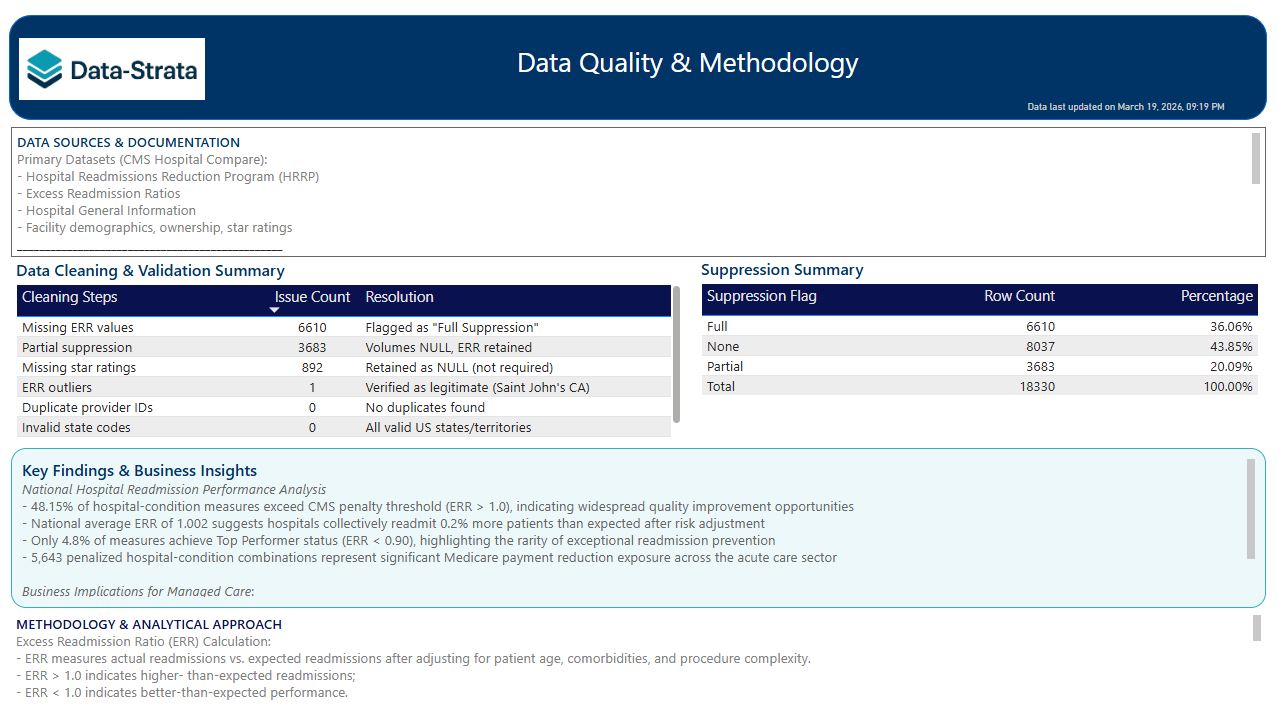

Layout of this report page (visuals, bound fields, positions):
{"tool":"powerbi","page":{"name":"Data Quality & Methodology","canvas":[1280,720],"ordinal":4},"visuals":[{"type":"group","id":"g1","title":"Group 2","box":[11,0,1258.3,141.8],"z":0},{"type":"group","id":"g2","title":"Group 1","box":[11,0,1258.3,141.8],"z":0,"group":"g1"},{"type":"shape","box":[11,17.1,1258.3,105.2],"z":0,"group":"g2"},{"type":"textbox","box":[360.8,40.2,656.9,57.8],"z":1000},{"type":"textbox","box":[20.9,450.9,1247.3,160.9],"z":1001},{"type":"textbox","box":[13.6,129.1,1255.5,130],"z":1002},{"type":"tableEx","title":"Data Cleaning & Validation Summary","fields":{"Values":["CleaningLog.Cleaning Steps","CleaningLog.Issue Count","CleaningLog.Resolution"]},"box":[12.7,263.6,675.5,187.3],"z":1003},{"type":"tableEx","title":"Suppression Summary","fields":{"Values":["SuppressionSummary.Suppression Flag","SuppressionSummary.Row Count","SuppressionSummary.Percentage"]},"box":[698.2,263.6,570,187.3],"z":1004},{"type":"textbox","box":[21,612,1247,101],"z":1005},{"type":"image","box":[20.8,0,185.9,141.8],"z":7000,"group":"g2"},{"type":"card","fields":{"Values":["_Measures.Last Refresh"]},"box":[996.7,99.4,262.4,22.4],"z":15000,"group":"g1"}]}

Visuals, with their boxes in screenshot pixels (x1, y1, x2, y2), scaled from the page's 1280x720 canvas onto the 1278x713 screenshot:
"Group 2" group: (x1=11, y1=0, x2=1267, y2=140)
"Group 1" group: (x1=11, y1=0, x2=1267, y2=140)
shape: (x1=11, y1=17, x2=1267, y2=121)
textbox: (x1=360, y1=40, x2=1016, y2=97)
textbox: (x1=21, y1=447, x2=1266, y2=606)
textbox: (x1=14, y1=128, x2=1267, y2=257)
"Data Cleaning & Validation Summary" tableEx: (x1=13, y1=261, x2=687, y2=447)
"Suppression Summary" tableEx: (x1=697, y1=261, x2=1266, y2=447)
textbox: (x1=21, y1=606, x2=1266, y2=706)
image: (x1=21, y1=0, x2=206, y2=140)
card - _Measures.Last Refresh: (x1=995, y1=98, x2=1257, y2=121)
